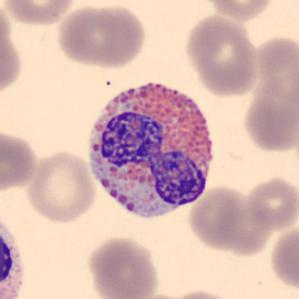Eosinophil: (80, 70, 223, 227), (0, 200, 32, 298)
RBC: (182, 13, 262, 99), (241, 38, 298, 155), (54, 1, 148, 70), (185, 183, 273, 256), (24, 149, 98, 225), (84, 233, 160, 299), (242, 174, 298, 232), (0, 126, 40, 194), (268, 223, 298, 293), (1, 0, 77, 27), (196, 0, 277, 22), (0, 32, 25, 90), (166, 287, 236, 299)
